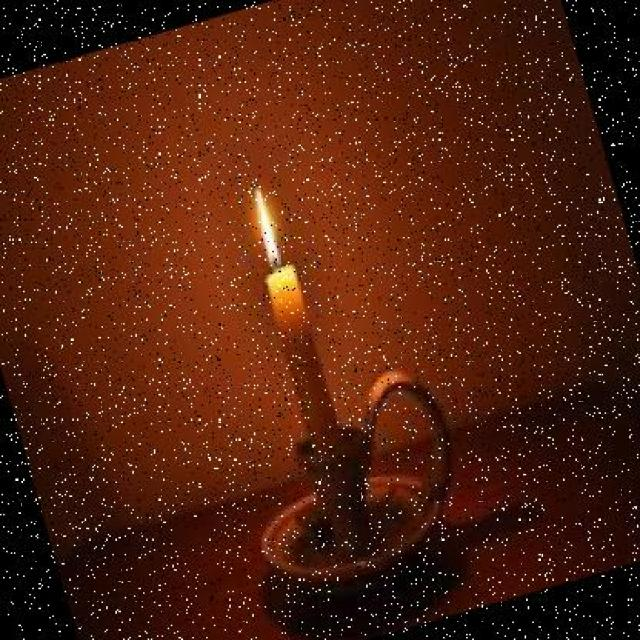fire: (231, 172, 297, 277)
